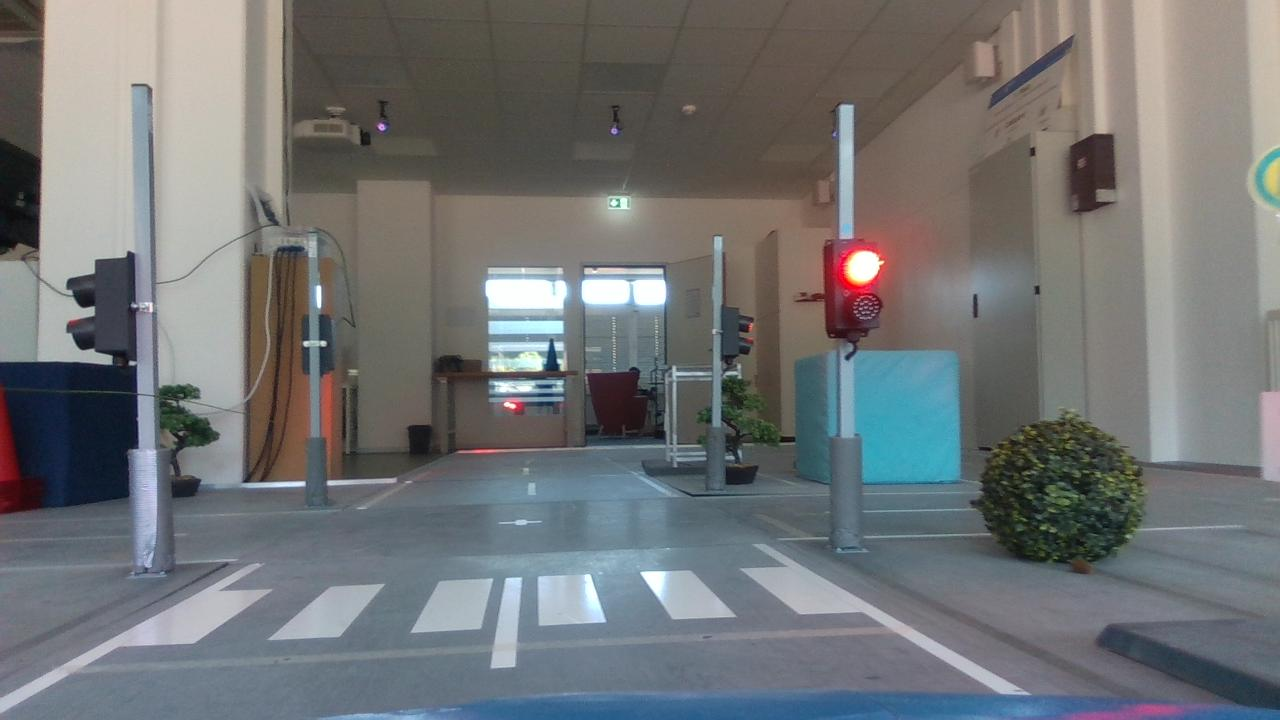traffic_light_red: (813, 225, 896, 351)
